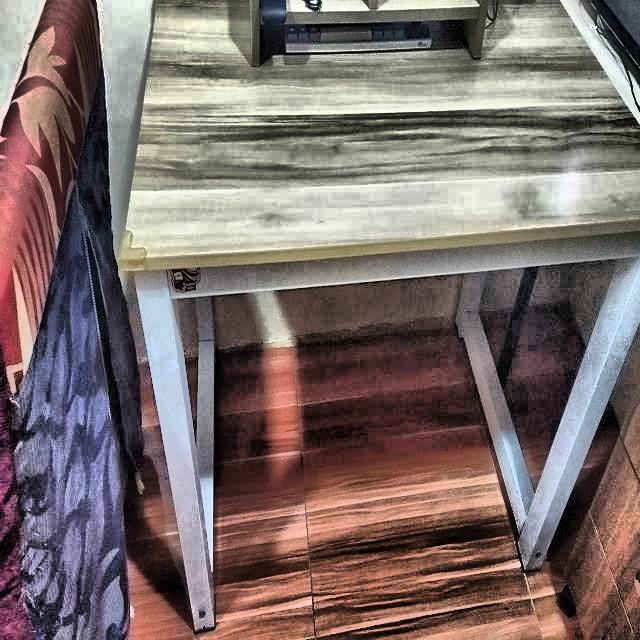mesa: (112, 0, 640, 625)
